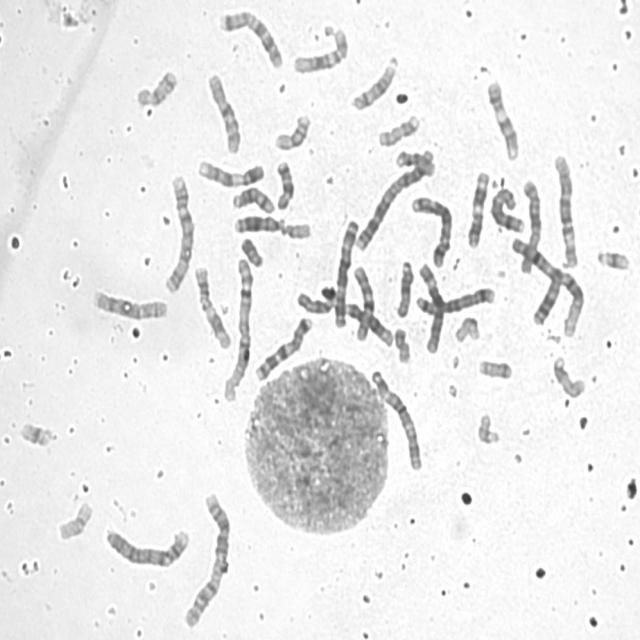A1: (507, 232, 586, 340), (217, 252, 255, 404)
A2: (352, 146, 436, 253), (178, 488, 232, 630)
A3: (368, 365, 424, 473), (331, 216, 362, 330)
B4: (100, 521, 191, 570), (160, 170, 194, 295)
B5: (407, 192, 454, 270), (413, 283, 497, 317)
C10: (203, 68, 242, 155), (350, 262, 376, 342)
C11: (190, 260, 233, 352), (463, 166, 490, 250)
C12: (289, 21, 350, 76), (342, 297, 394, 348)
C6: (550, 149, 580, 270), (414, 258, 446, 355)
C7: (250, 311, 314, 383), (216, 5, 286, 70)
C8: (89, 284, 170, 322), (486, 183, 526, 235)
C9: (482, 76, 520, 162), (194, 155, 266, 189)
D13: (529, 266, 564, 327), (230, 211, 288, 235)
D14: (347, 51, 400, 112), (229, 182, 276, 215)
D15: (392, 256, 416, 320), (392, 145, 437, 177)
E16: (271, 110, 312, 152), (296, 292, 336, 314)
E17: (375, 110, 421, 148), (552, 356, 587, 399)
E18: (136, 70, 176, 108), (271, 156, 296, 211)
F19: (53, 496, 94, 542), (452, 312, 482, 345)
F20: (392, 324, 412, 364), (476, 360, 513, 380)
G21: (16, 416, 54, 449), (592, 244, 632, 273)
G22: (473, 409, 501, 447), (280, 221, 312, 241)
X: (516, 175, 543, 276)
Y: (237, 234, 265, 268)
